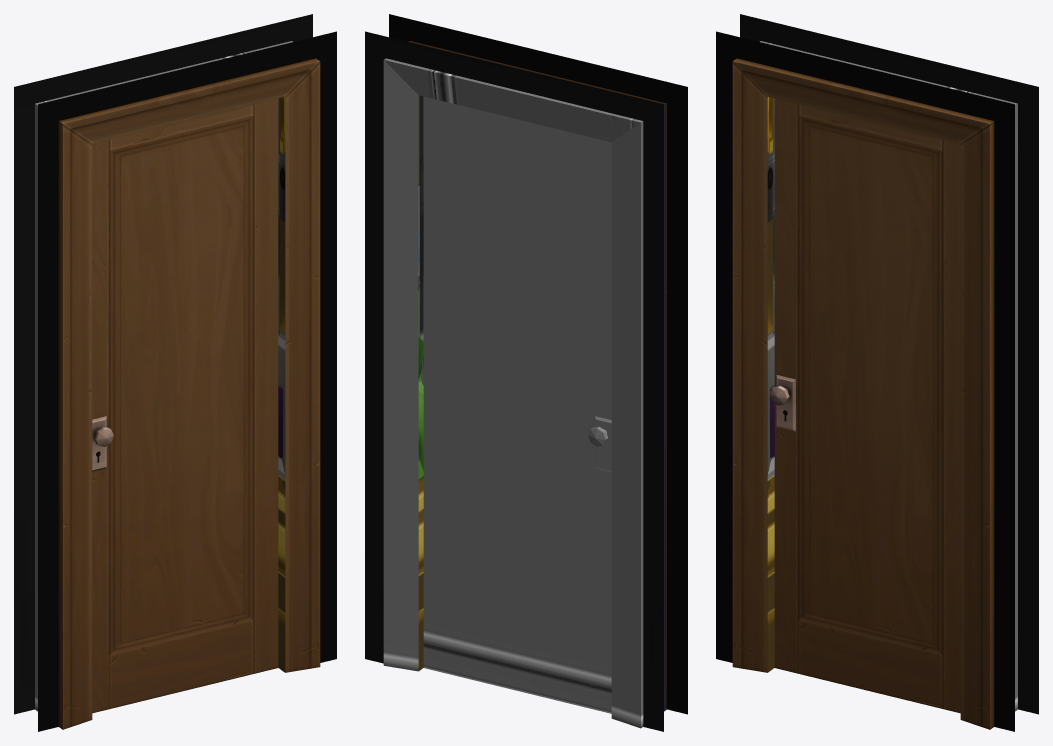
Rendered from puerta.obj.
The picture shows the model from 3 angles, left to right: view 1: azimuth 30°, elevation 25°; view 2: azimuth 150°, elevation 25°; view 3: azimuth 330°, elevation 25°; orthographic projection.
Visible parts, largest first — view 1: s4studio_mesh_1, s4studio_mesh_4, s4studio_mesh_3, s4studio_mesh_0, s4studio_mesh_2; view 2: s4studio_mesh_2, s4studio_mesh_3, s4studio_mesh_4, s4studio_mesh_0, s4studio_mesh_1; view 3: s4studio_mesh_1, s4studio_mesh_4, s4studio_mesh_3, s4studio_mesh_0, s4studio_mesh_2.
Part boxes in pixels (box(x1,y1,x2,y2)): s4studio_mesh_1: box(58, 58, 320, 729); s4studio_mesh_4: box(38, 31, 336, 731); s4studio_mesh_3: box(14, 14, 312, 714); s4studio_mesh_0: box(278, 97, 285, 672); s4studio_mesh_2: box(35, 41, 293, 711); s4studio_mesh_2: box(383, 58, 643, 728); s4studio_mesh_3: box(365, 31, 663, 731); s4studio_mesh_4: box(389, 14, 687, 714); s4studio_mesh_0: box(418, 95, 423, 670); s4studio_mesh_1: box(408, 41, 666, 711); s4studio_mesh_1: box(732, 58, 994, 729); s4studio_mesh_4: box(716, 31, 1014, 731); s4studio_mesh_3: box(740, 14, 1038, 714); s4studio_mesh_0: box(767, 97, 774, 672); s4studio_mesh_2: box(759, 41, 1017, 711).
Bounding box in the file's own units: 1.16 × 2.33 × 0.2133.
